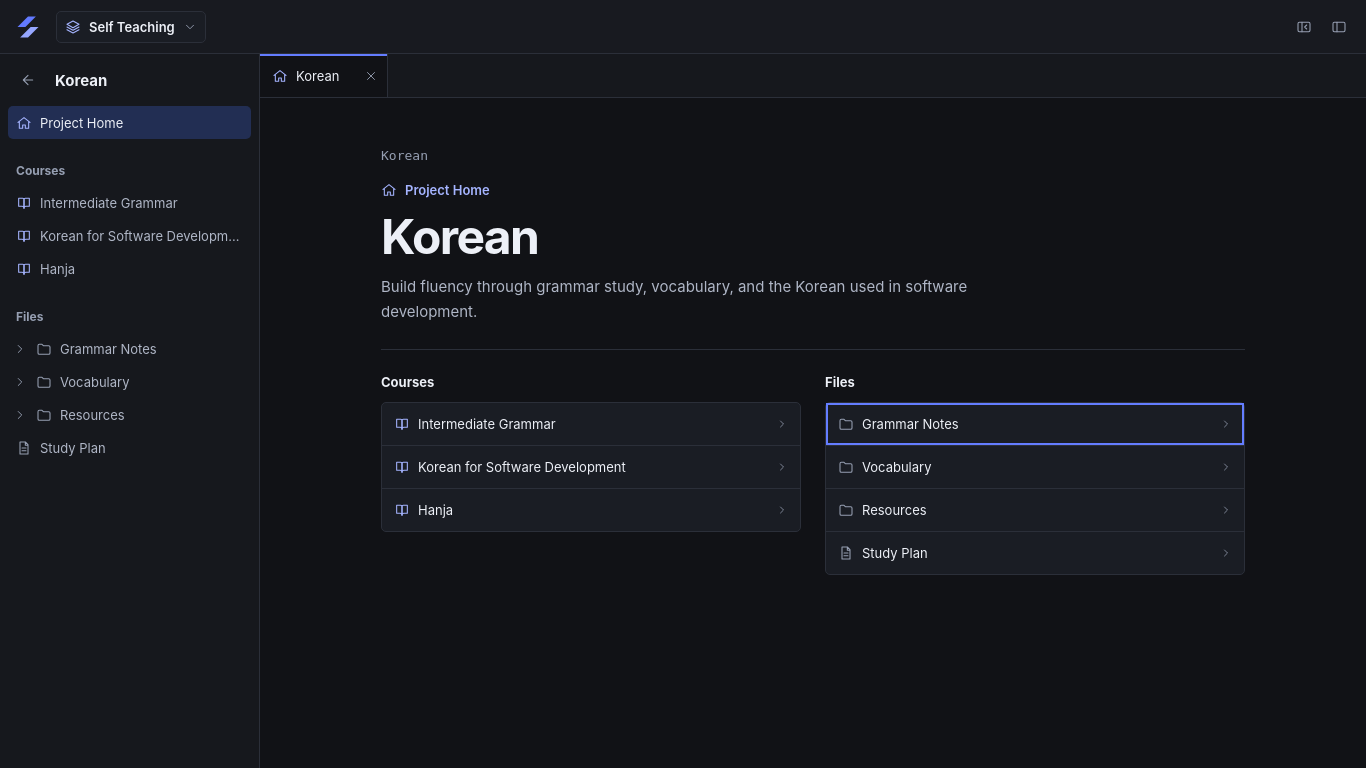
home links open the same documents as the sidebar and keep focus in the document pane
Click the 2nd button "Grammar Notes": (910, 424) [826,403,1244,445]
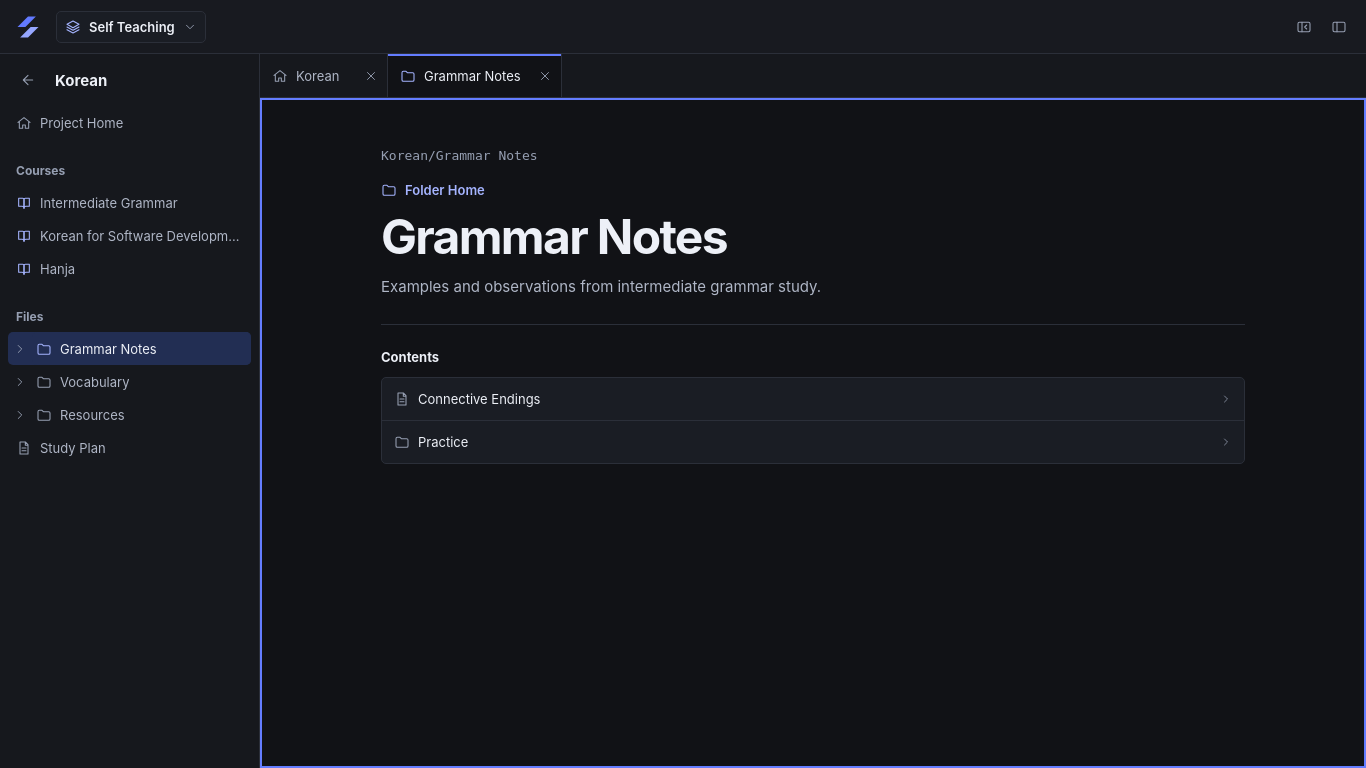
Expected: the heading "Grammar Notes" is shown, [381,206,727,266]
Click the button "Grammar Notes": (142, 348) [32,332,251,365]
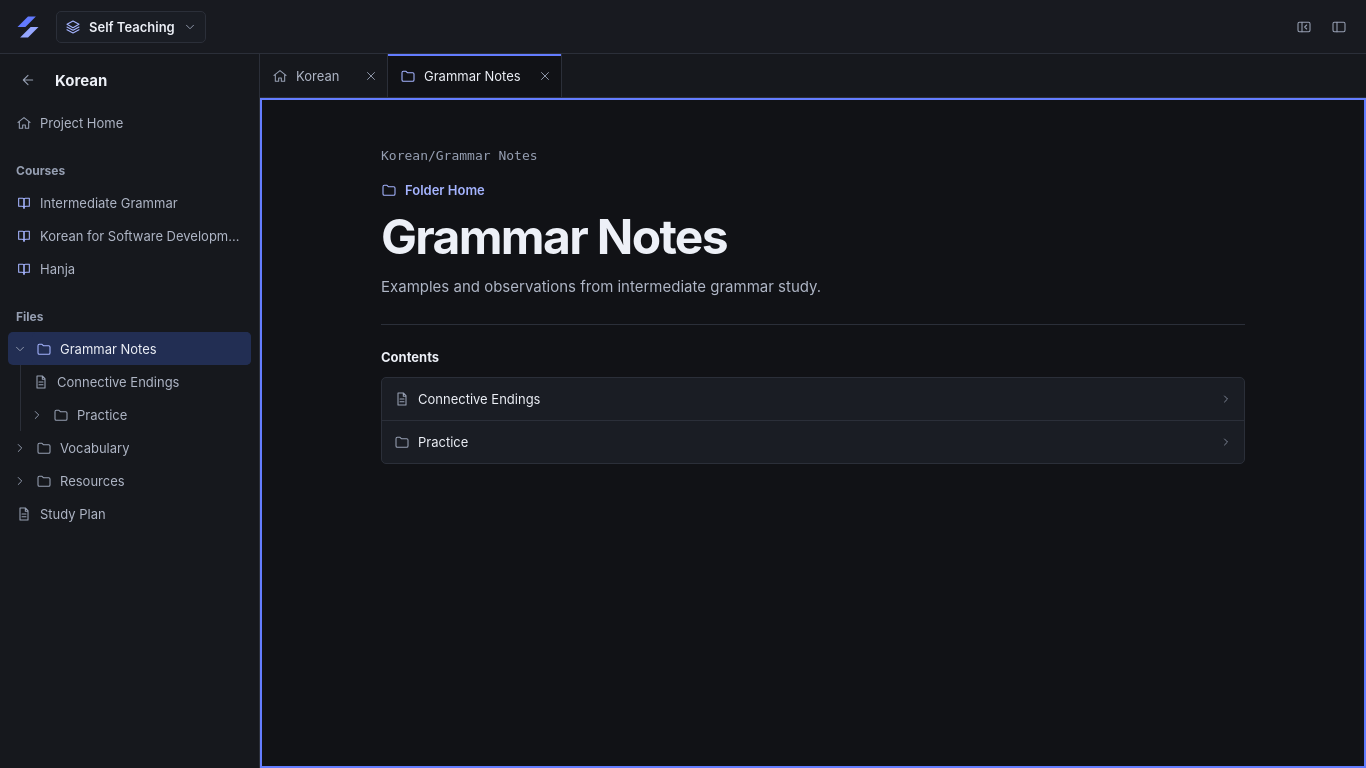
Expected: the number of tabs "Grammar Notes" is 1, [388,54,533,97]
Click the button "Connective Endings" below "Contents": (479, 399) [382,378,1244,420]
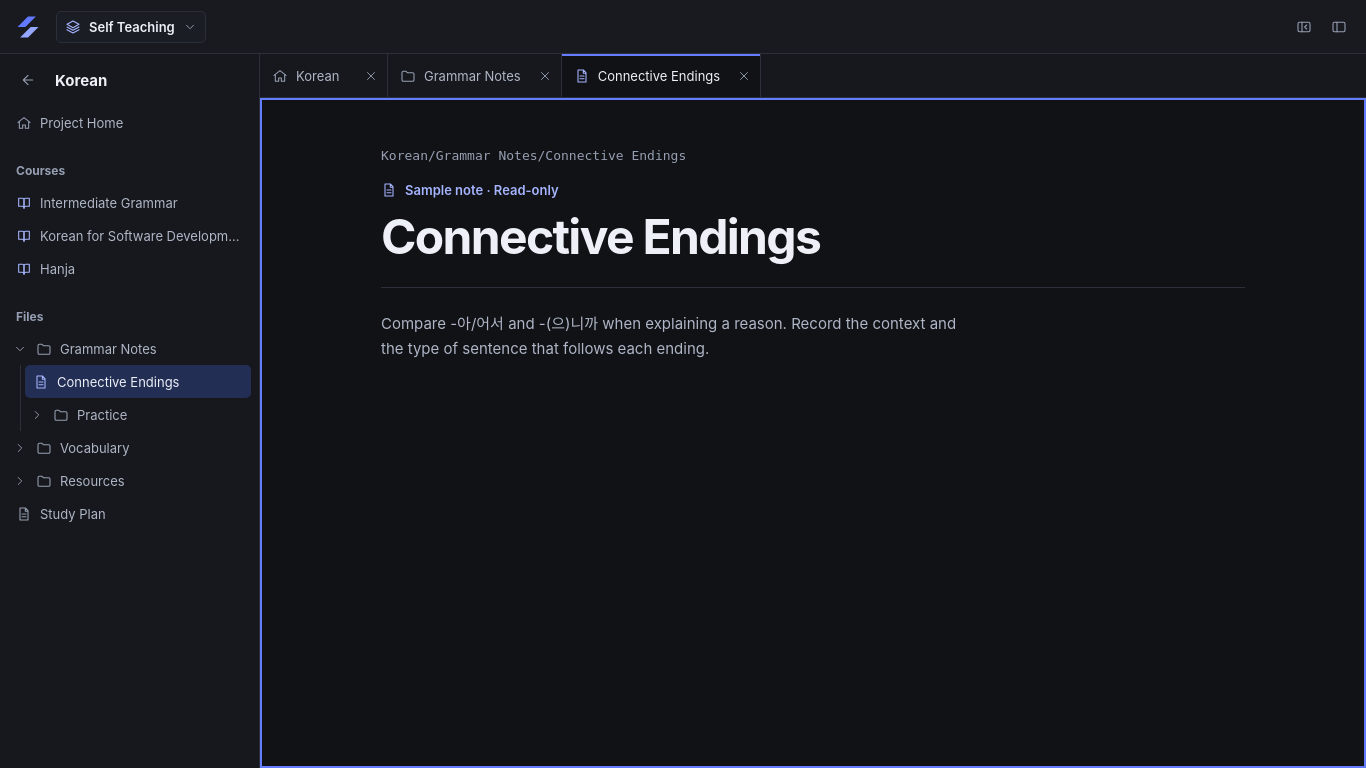
Expected: the heading "Connective Endings" is shown, [381,206,820,266]
